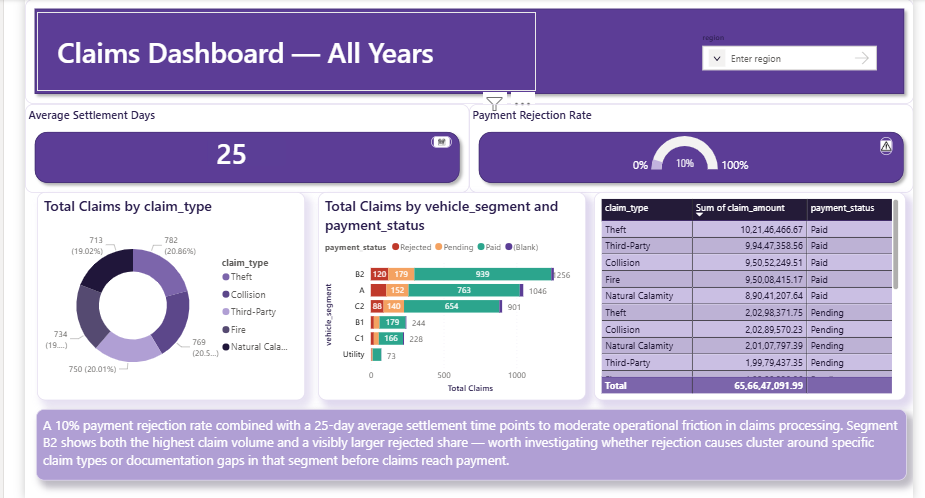

The dashboard page shown, as its layout file describes it:
{"tool":"powerbi","page":{"name":"Claims_dashboard","canvas":[1280,720],"ordinal":1},"visuals":[{"type":"shape","box":[0,0,1280,150.8],"z":0},{"type":"cardVisual","fields":{"Data":["dim_agent.Claims Dynamic Title"]},"box":[16.9,18.5,718.5,113.8],"z":1000},{"type":"textSlicer","fields":{"Values":["dim_agent.region"]},"box":[970.6,47.5,260.6,54.7],"z":2000},{"type":"shape","title":"Average Settlement Days","box":[0,150.8,640,127.7],"z":3000},{"type":"cardVisual","fields":{"Data":["dim_agent.Avg Settlement Days"]},"box":[246.2,183.1,146.2,75.4],"z":4000},{"type":"shape","title":"Payment Rejection Rate","box":[640,150.8,640,127.7],"z":5000},{"type":"donutChart","fields":{"Category":["fact_claims.claim_type"],"Y":["dim_agent.Total Claims"]},"box":[16.9,278.5,386.2,300],"z":6000},{"type":"barChart","fields":{"Category":["dim_policy.segment"],"Series":["fact_claims.payment_status"],"Y":["dim_agent.Total Claims"]},"box":[421.5,278.5,386.2,300],"z":7000},{"type":"tableEx","fields":{"Values":["fact_claims.claim_type","Sum(fact_claims.claim_amount)","fact_claims.payment_status"]},"box":[820,278.5,449.2,300],"z":8000},{"type":"gauge","fields":{"Y":["dim_agent.Payment Rejection Rate"]},"box":[866.2,183.1,186.2,81.5],"z":9000},{"type":"textbox","title":"Inference.","box":[15.4,590.8,1253.8,103.1],"z":10000},{"type":"image","box":[584.1,197.6,30.5,17.1],"z":11000},{"type":"image","box":[1231.7,198.8,18.3,25.6],"z":12000}]}

Visuals, with their boxes on the page's 1280x720 design canvas (x1, y1, x2, y2). These are canvas units, not pixel positions in the 925x498 screenshot, which may show the page scaled, cropped or inside an application window:
shape: [0,0,1280,151]
cardVisual - dim_agent.Claims Dynamic Title: [17,18,735,132]
textSlicer - dim_agent.region: [971,48,1231,102]
"Average Settlement Days" shape: [0,151,640,278]
cardVisual - dim_agent.Avg Settlement Days: [246,183,392,258]
"Payment Rejection Rate" shape: [640,151,1280,278]
donutChart - fact_claims.claim_type x dim_agent.Total Claims: [17,278,403,578]
barChart - dim_policy.segment x fact_claims.payment_status: [422,278,808,578]
tableEx - fact_claims.claim_type x Sum(fact_claims.claim_amount): [820,278,1269,578]
gauge - dim_agent.Payment Rejection Rate: [866,183,1052,265]
"Inference." textbox: [15,591,1269,694]
image: [584,198,615,215]
image: [1232,199,1250,224]
